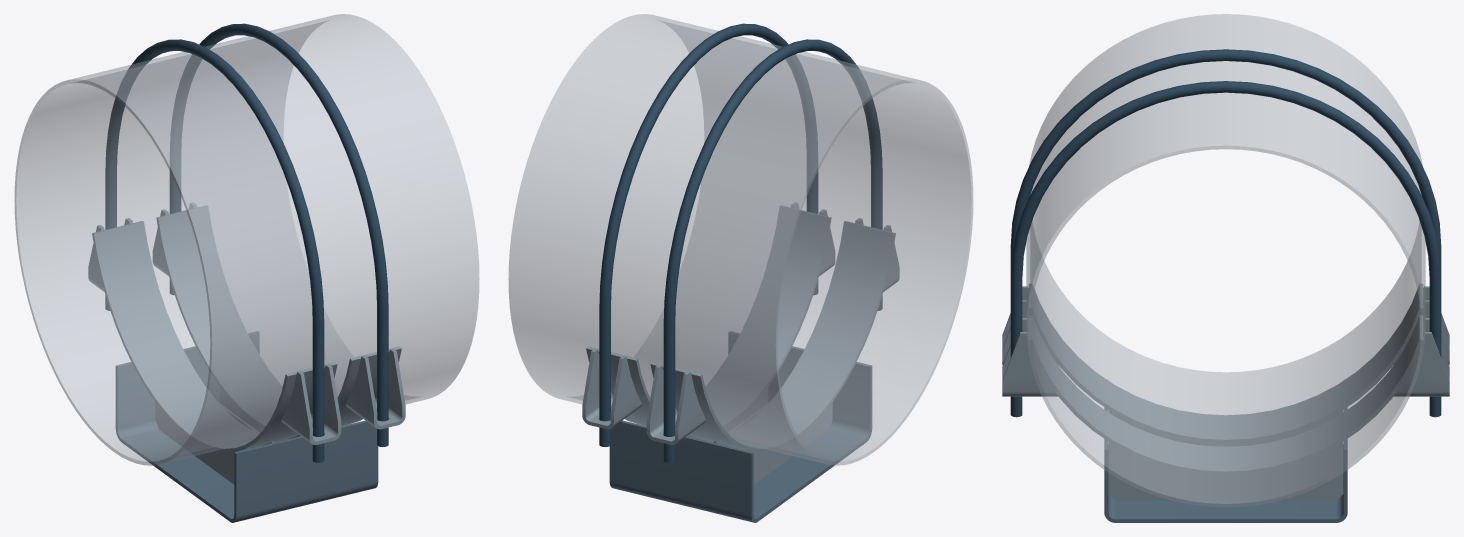
File: TS-626.00.000-066-opora-dn820-H100-L340.glb
The picture shows the model from 3 angles, left to right: view 1: azimuth 30°, elevation 25°; view 2: azimuth 150°, elevation 25°; view 3: azimuth 270°, elevation 25°; orthographic projection.
Visible parts, largest first — view 1: truba, skoba_0, podushka_4, podushka_5, homut_0, homut_1, ushko_9, ushko_7, rebro4_1; view 2: truba, skoba_0, podushka_4, podushka_5, homut_0, homut_1, ushko_8, ushko_6, rebro4_1; view 3: truba, podushka_5, podushka_4, homut_1, rebro4_2, homut_0, skoba_0, ushko_8, ushko_9, rebro4_1, ushko_6, ushko_7.
Boxes of the visible parts, box(x1,y1,x2,y2) form: truba: box(14, 14, 479, 465); skoba_0: box(115, 331, 378, 522); podushka_4: box(92, 221, 337, 452); podushka_5: box(156, 205, 401, 436); homut_0: box(105, 39, 324, 462); homut_1: box(169, 23, 388, 446); ushko_9: box(346, 348, 405, 429); ushko_7: box(281, 364, 341, 444); rebro4_1: box(155, 402, 274, 484); truba: box(508, 14, 973, 465); skoba_0: box(609, 331, 872, 522); podushka_4: box(650, 221, 895, 452); podushka_5: box(586, 205, 831, 436); homut_0: box(663, 39, 882, 462); homut_1: box(599, 23, 818, 446); ushko_8: box(582, 348, 641, 429); ushko_6: box(646, 364, 706, 444); rebro4_1: box(713, 402, 832, 484); truba: box(1026, 14, 1425, 507); podushka_5: box(1028, 315, 1423, 474); podushka_4: box(1028, 283, 1423, 443); homut_1: box(1010, 81, 1441, 417); rebro4_2: box(1108, 442, 1343, 500); homut_0: box(1010, 49, 1441, 275); skoba_0: box(1104, 407, 1347, 522); ushko_8: box(1394, 318, 1449, 396); ushko_9: box(1002, 318, 1057, 396); rebro4_1: box(1108, 410, 1343, 446); ushko_6: box(1394, 286, 1449, 364); ushko_7: box(1002, 286, 1057, 364).
Bounding box in the file's own units: 640 × 957 × 918.
